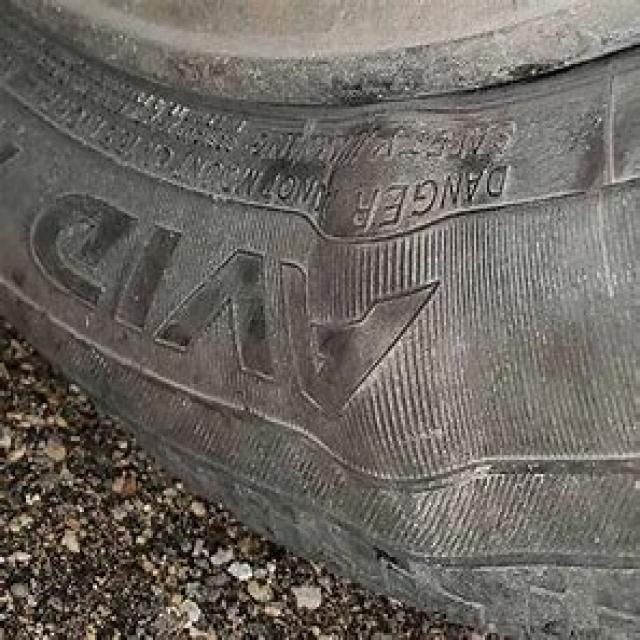Bulge: (309, 102, 484, 602)
